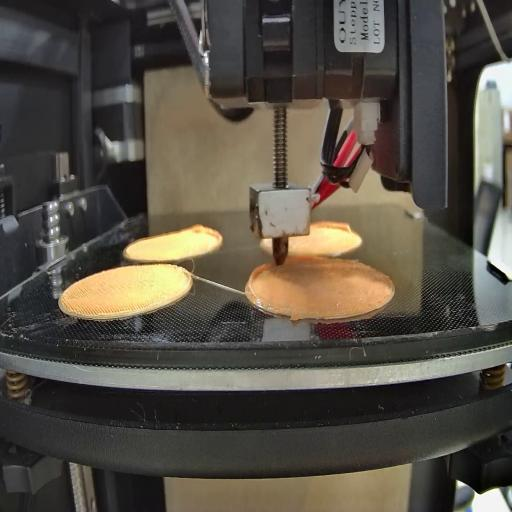over_extrusion: (191, 222, 224, 257), (248, 262, 274, 298), (313, 220, 352, 234), (288, 254, 330, 266)
